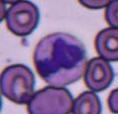N: (32, 32, 86, 85)
